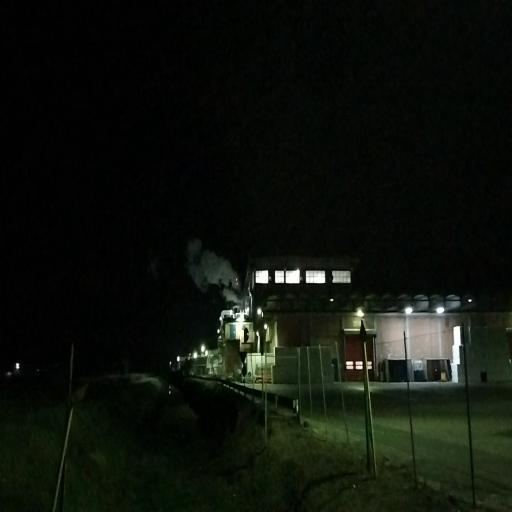leakage: (184, 228, 254, 316)
